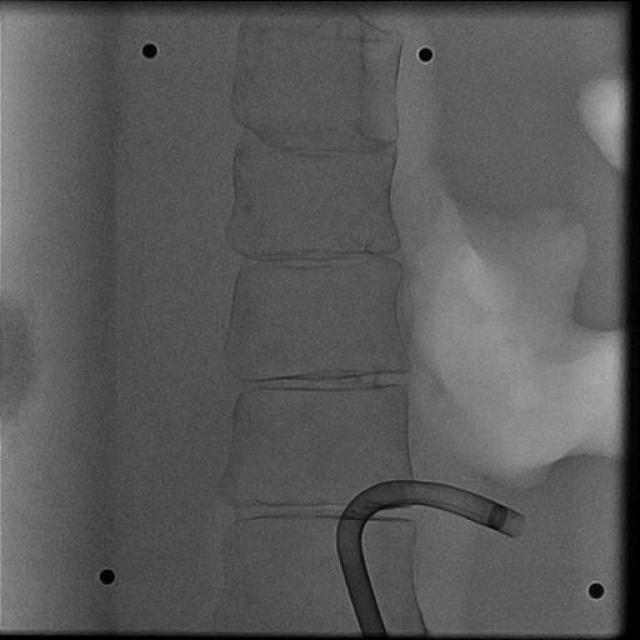bend: (338, 532, 362, 556)
entry: (360, 628, 388, 635)
marker: (488, 504, 508, 530)
tip: (510, 516, 524, 539)
